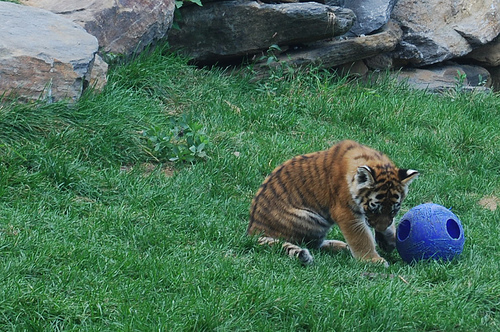Tigre: (228, 120, 415, 273)
